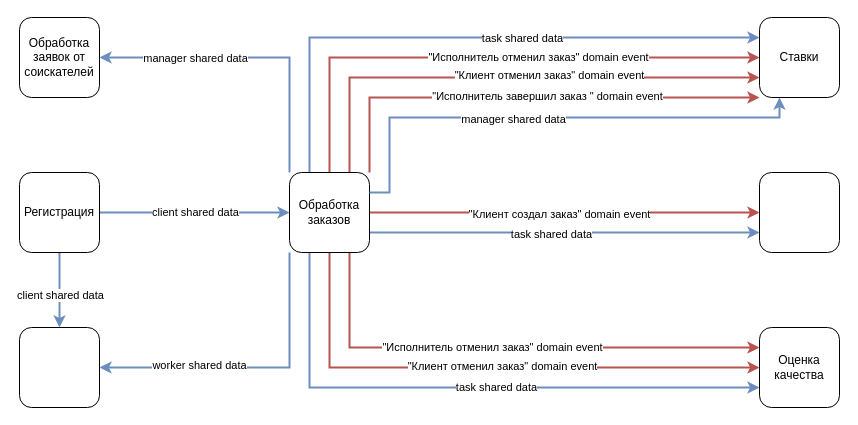
The diagram is 858 pixels wide and 425 high, and some of its shapes have lost their labels. The shapes that lost their labels are listed below. From the top down, each one's centre as x and y in pixels, then its label:
[799,212]: Расходники
[59,367]: Обработка платежей
